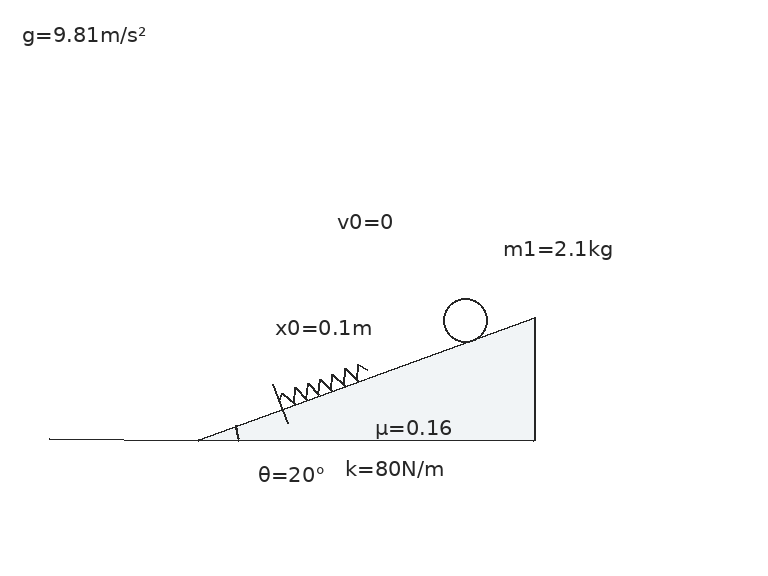ball: (441, 296, 489, 344)
ramp: (196, 316, 536, 442)
spring: (277, 363, 368, 405)
